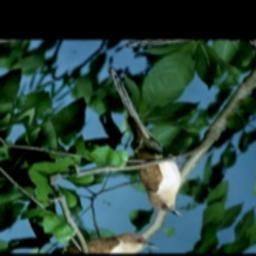Cuckoo: (41, 63, 252, 224)
